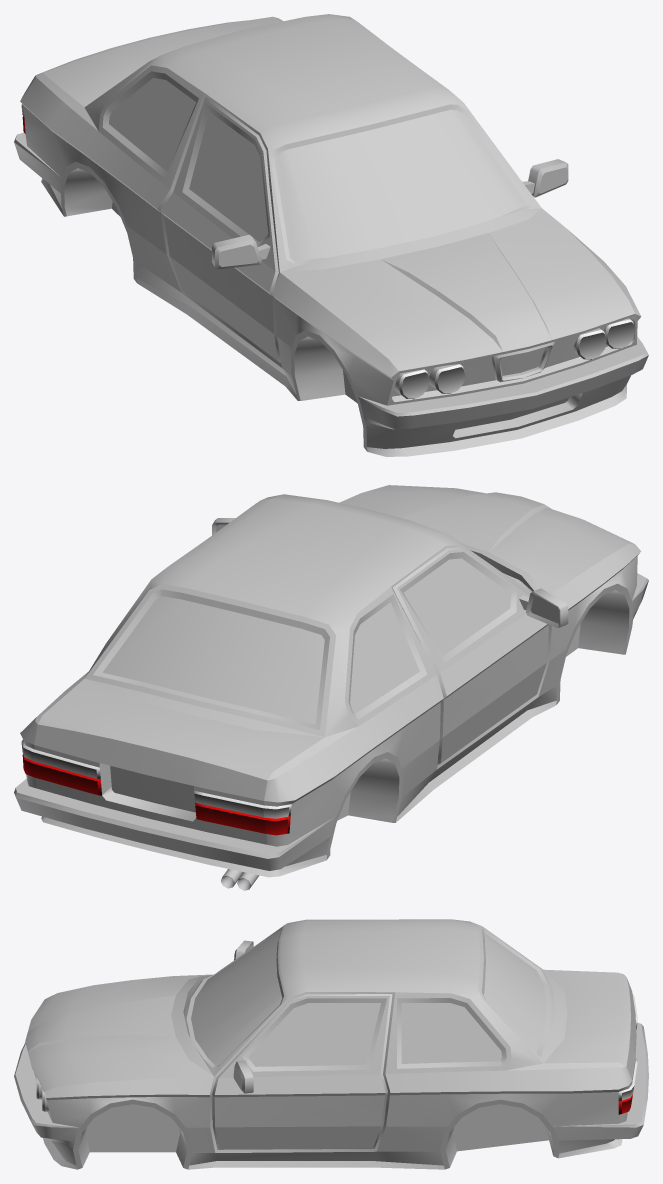
File: BBW30_NA.fbx
3 views of the same model, one above another, from view 1: azimuth 30°, elevation 25°; view 2: azimuth 150°, elevation 25°; view 3: azimuth 270°, elevation 25° (orthographic). The views are drawn at different scales.
Visible parts, largest first — view 1: BBW30_NA; view 2: BBW30_NA; view 3: BBW30_NA.
Boxes of the visible parts, bbox=[...] form: BBW30_NA: bbox=[14, 14, 648, 456]; BBW30_NA: bbox=[14, 485, 648, 890]; BBW30_NA: bbox=[14, 919, 648, 1169].
Bounding box in the file's own units: 1.37 × 0.7904 × 2.67.
